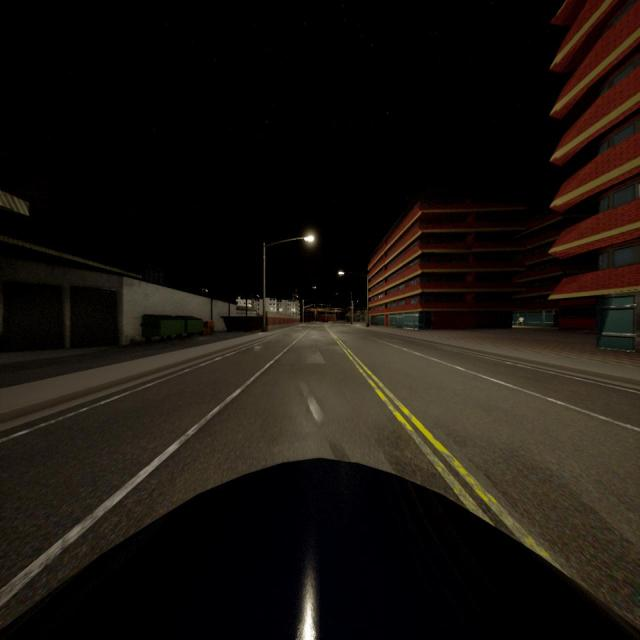Vehicle: (0, 458, 640, 636), (319, 316, 328, 323)
